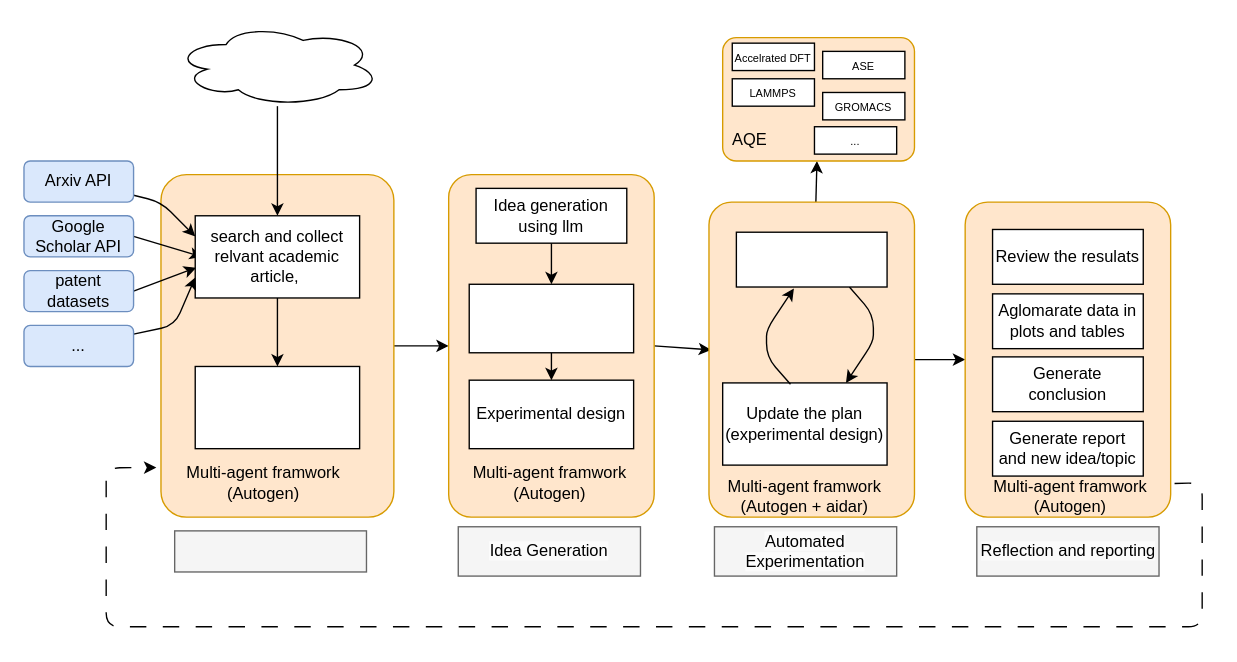
This 1237x662 diagram has some shape labels left out. Here are the shapes that lost their labels. From the top down, the box of each, then its label:
(173, 23, 380, 106): Input: Topic
(735, 231, 887, 287): Run experiments
(468, 283, 634, 353): Ranking the novilty of ideas
(194, 365, 360, 449): Build Verctor DB and Graph DB for hybrid search ( RAG and GraphRAG )
(173, 530, 366, 572): Literature Search and Knowledge Base
